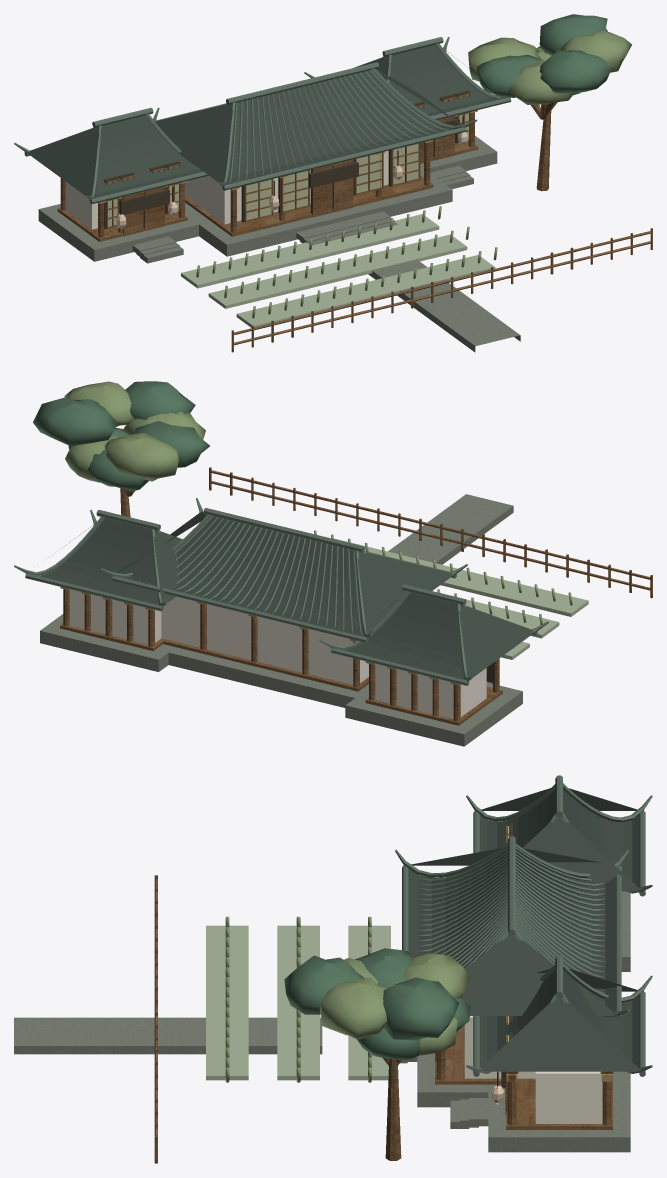
The model's file is daoxiangcun.glb.
3 renders of one model, top to bottom at view 1: azimuth 30°, elevation 25°; view 2: azimuth 150°, elevation 25°; view 3: azimuth 270°, elevation 25°, orthographic. The views are drawn at different scales.
Visible parts, largest first — view 1: daoxiangcun_roof, daoxiangcun_stone, daoxiangcun_wood, daoxiangcun_earth, daoxiangcun_tile, daoxiangcun_lightleaf, daoxiangcun_leaf, daoxiangcun_paper, daoxiangcun_darkwood, daoxiangcun_plaster, daoxiangcun_creamflower; view 2: daoxiangcun_roof, daoxiangcun_stone, daoxiangcun_plaster, daoxiangcun_tile, daoxiangcun_wood, daoxiangcun_leaf, daoxiangcun_lightleaf, daoxiangcun_earth; view 3: daoxiangcun_roof, daoxiangcun_tile, daoxiangcun_stone, daoxiangcun_earth, daoxiangcun_leaf, daoxiangcun_lightleaf, daoxiangcun_wood, daoxiangcun_plaster.
Boxes of the visible parts, x1,y1,x2,y2 form: daoxiangcun_roof: (27,44,497,198); daoxiangcun_stone: (38,135,520,352); daoxiangcun_wood: (57,93,652,352); daoxiangcun_earth: (181,214,495,327); daoxiangcun_tile: (14,37,511,203); daoxiangcun_lightleaf: (196,30,631,318); daoxiangcun_leaf: (477,14,610,97); daoxiangcun_paper: (108,95,468,226); daoxiangcun_darkwood: (103,90,470,228); daoxiangcun_plaster: (65,150,388,229); daoxiangcun_creamflower: (116,132,467,228); daoxiangcun_roof: (39,512,534,679); daoxiangcun_stone: (40,494,522,746); daoxiangcun_plaster: (69,589,486,718); daoxiangcun_tile: (14,498,548,685); daoxiangcun_wood: (60,467,652,725); daoxiangcun_leaf: (33,381,209,491); daoxiangcun_lightleaf: (64,381,572,648); daoxiangcun_earth: (334,538,588,659); daoxiangcun_roof: (408,788,639,1073); daoxiangcun_tile: (395,775,652,1076); daoxiangcun_stone: (14,891,630,1152); daoxiangcun_earth: (206,925,390,1080); daoxiangcun_leaf: (284,948,470,1060); daoxiangcun_lightleaf: (225,916,469,1082); daoxiangcun_wood: (154,825,612,1163); daoxiangcun_plaster: (464,1016,602,1123).
Bounding box in the file's own units: 31.22 × 9.36 × 26.94.
Materials: 12 (2 with a texture image).
